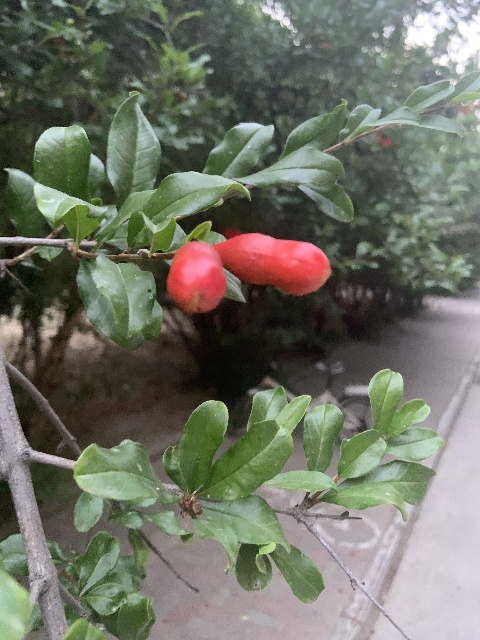bud: (213, 231, 331, 296), (166, 240, 226, 314)
